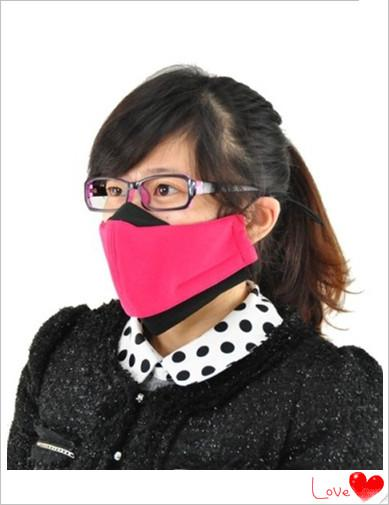OK: (93, 154, 241, 302)
